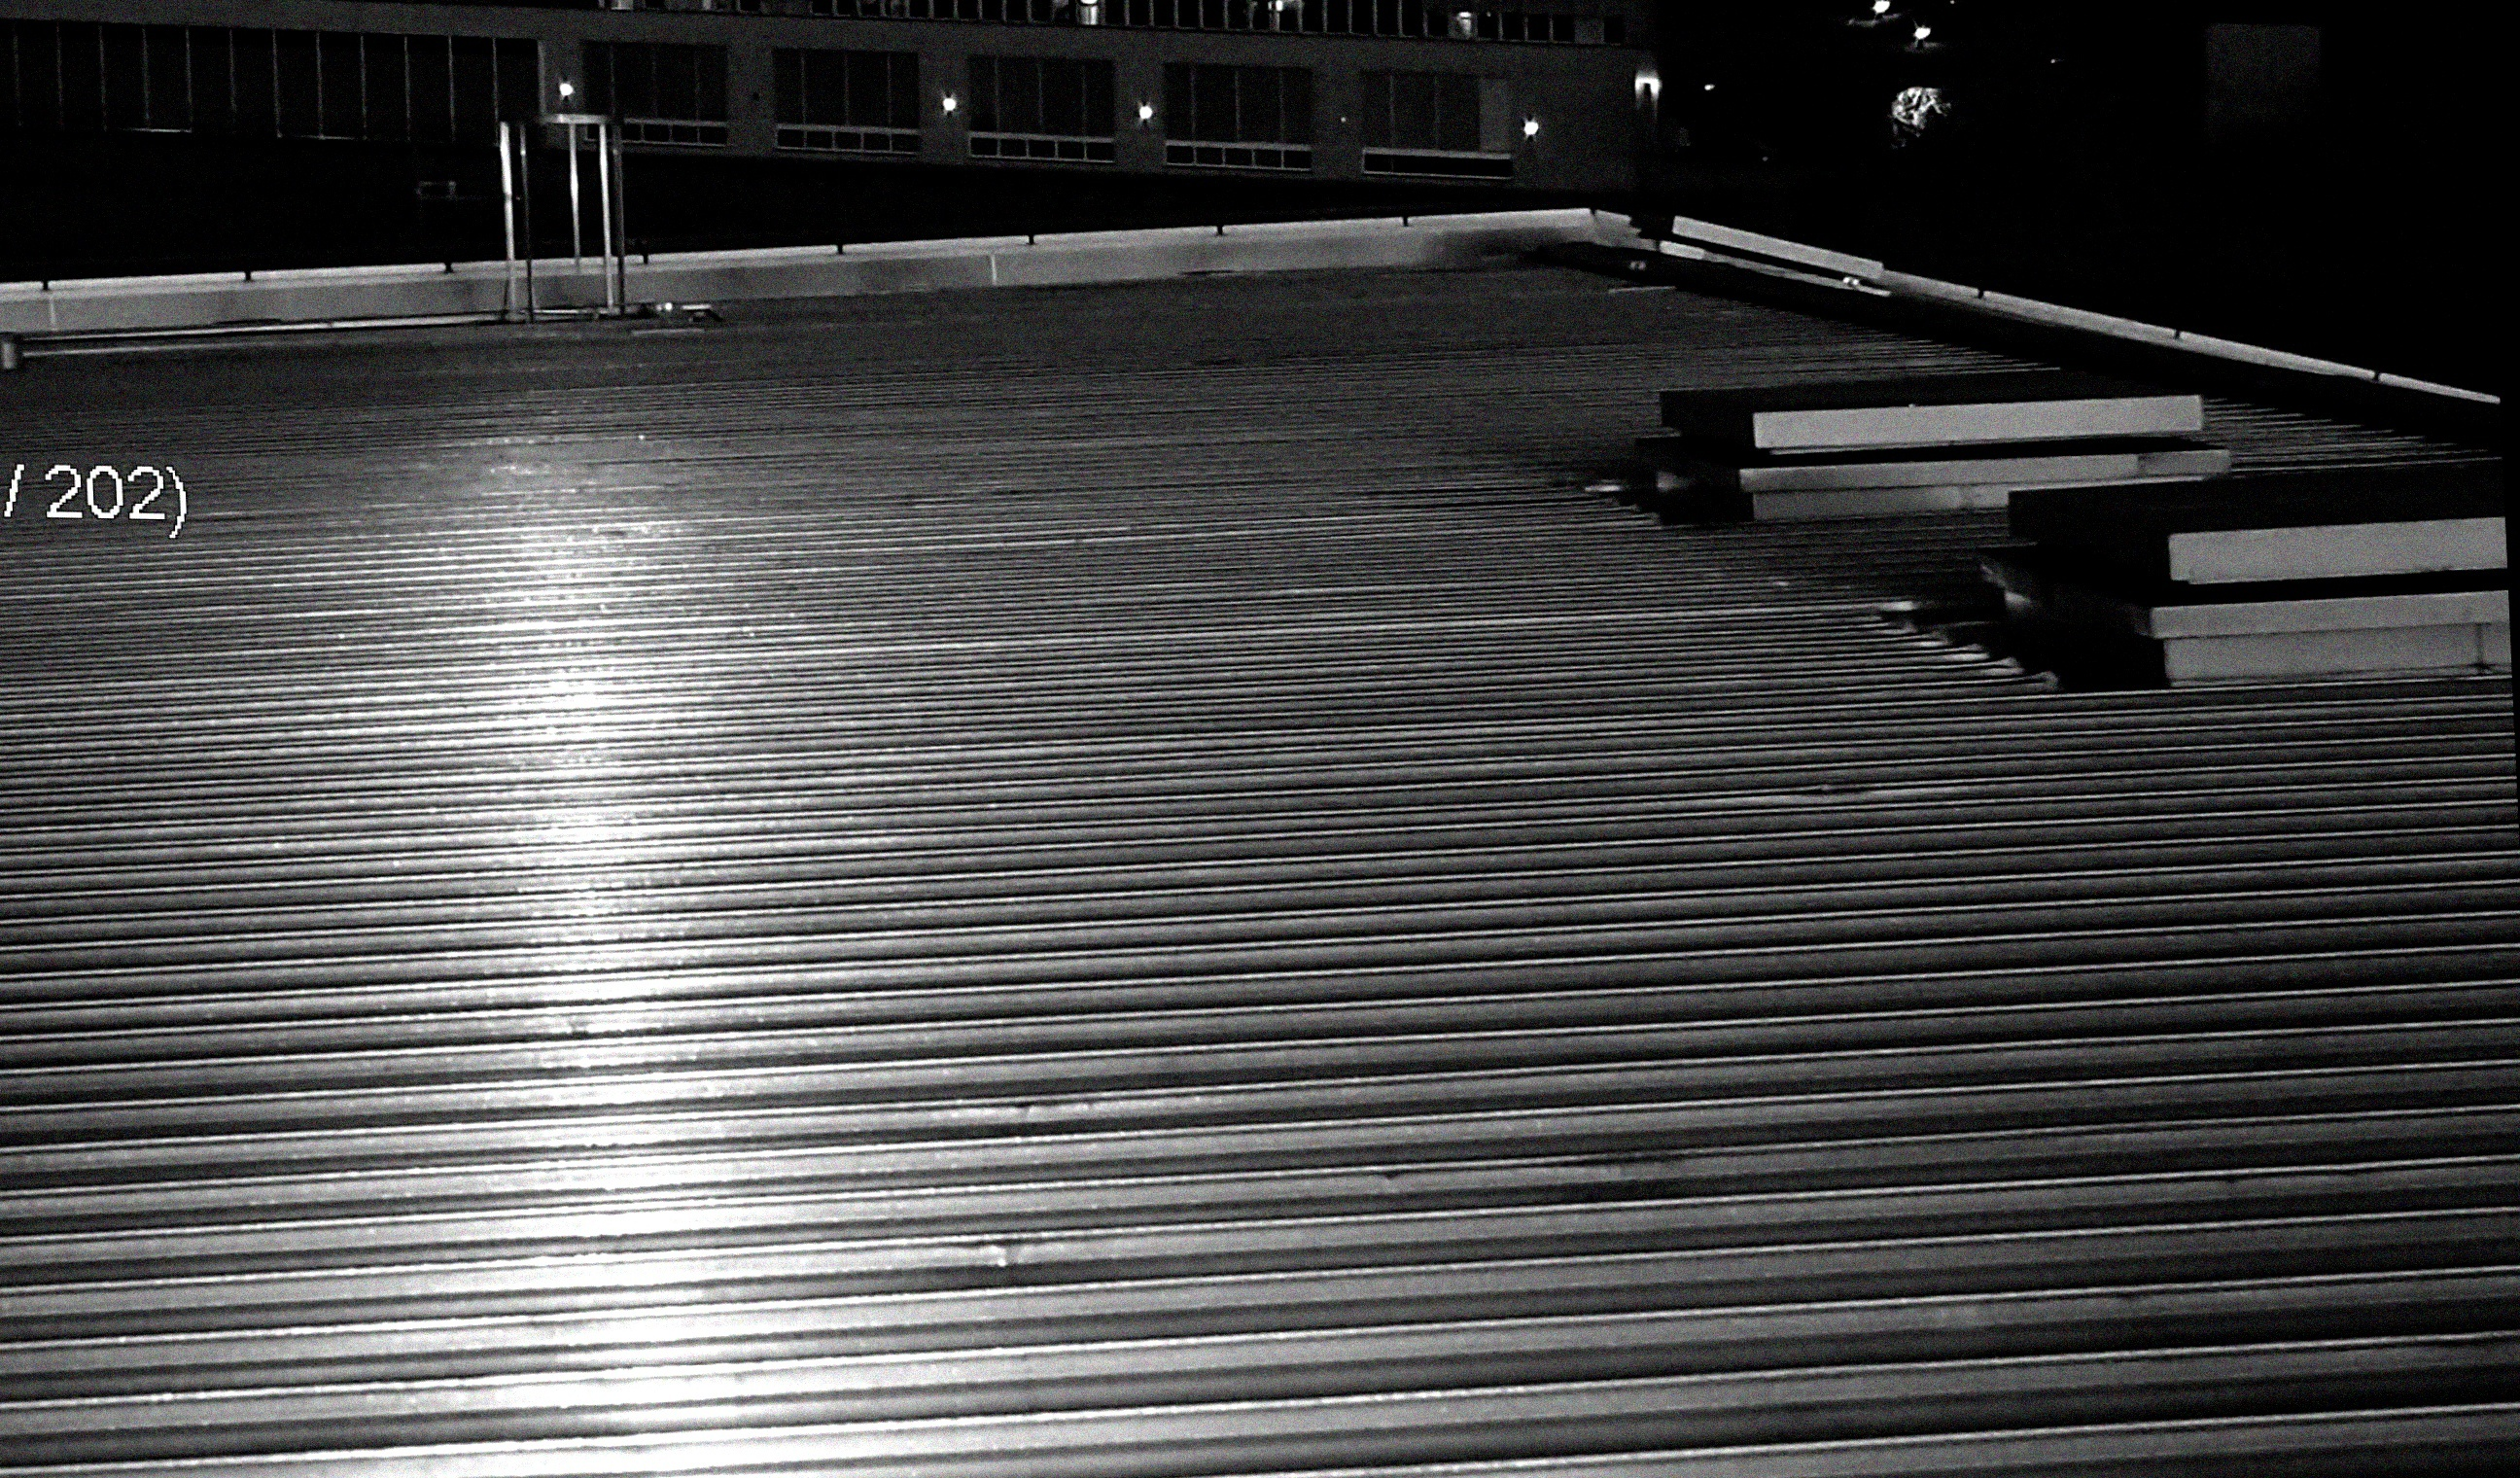Other: (1954, 521, 2210, 688)
